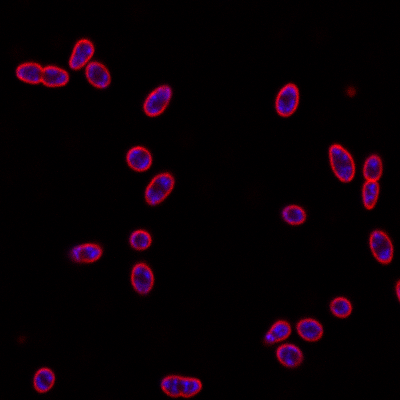Mecillinam: (12, 62, 71, 88), (361, 155, 386, 210), (327, 142, 356, 184), (143, 172, 177, 206), (159, 374, 204, 399), (142, 83, 174, 118), (368, 227, 395, 266), (274, 80, 302, 117), (66, 38, 96, 70), (130, 261, 155, 295), (85, 60, 113, 89), (296, 315, 325, 343), (124, 144, 152, 172), (275, 343, 303, 368), (279, 204, 307, 227), (33, 365, 55, 393), (330, 295, 353, 320), (129, 229, 153, 250)
Oblique: (261, 318, 292, 345), (65, 241, 103, 263)
Vesicle: (343, 85, 357, 98)
